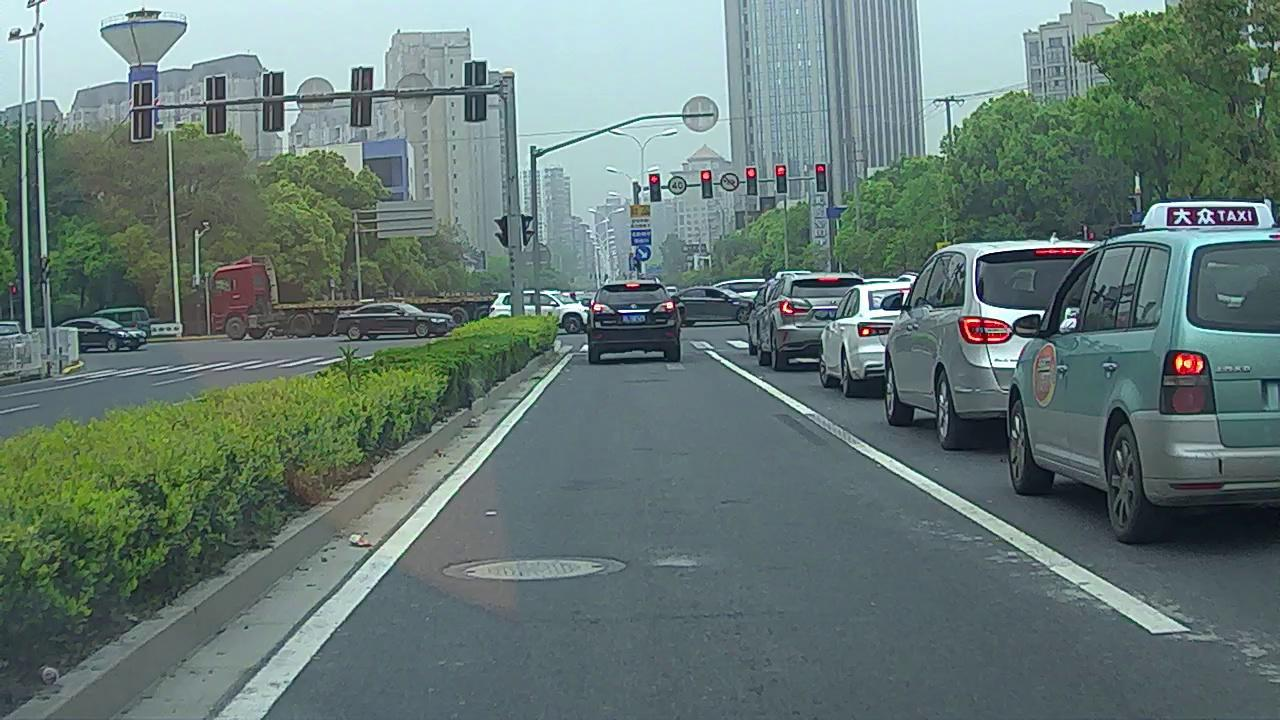traffic_light: (775, 165, 788, 193), (649, 175, 661, 201), (816, 164, 827, 192), (701, 171, 712, 198), (747, 168, 756, 194)
